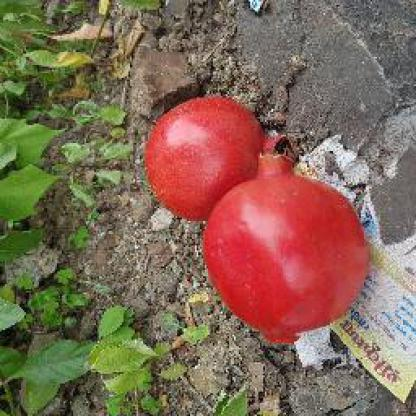pomegranate: (203, 152, 371, 342), (143, 94, 270, 224)
